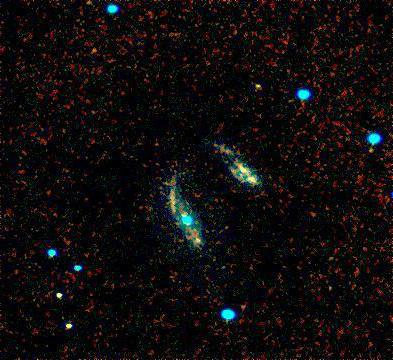star: (185, 224, 215, 254)
